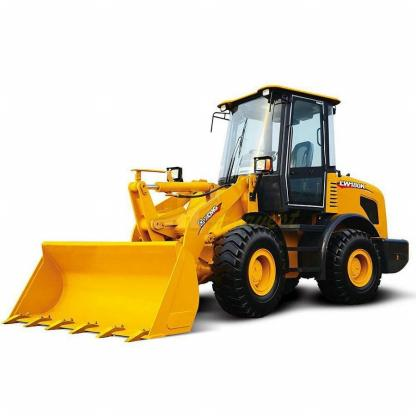bull_dozer/loader/grader: (3, 77, 404, 347)
